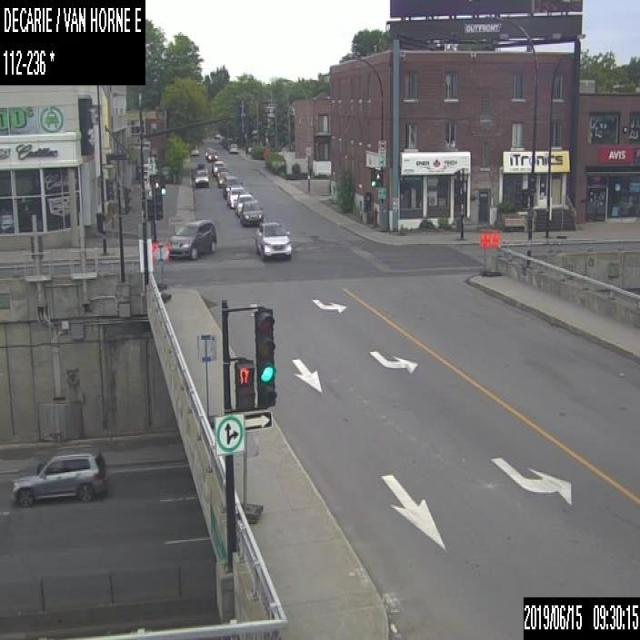construction: (237, 426, 262, 522), (195, 331, 218, 427), (152, 240, 171, 302), (489, 231, 500, 276), (478, 231, 489, 275)
vehicle: (10, 449, 107, 506), (166, 217, 217, 259), (255, 221, 292, 261), (238, 200, 262, 224), (233, 193, 257, 217), (222, 174, 242, 198), (226, 185, 246, 207), (193, 166, 208, 186), (217, 170, 231, 186), (211, 160, 225, 176), (216, 165, 229, 178), (206, 148, 218, 161), (228, 142, 238, 154), (204, 146, 212, 157), (190, 144, 198, 155)
